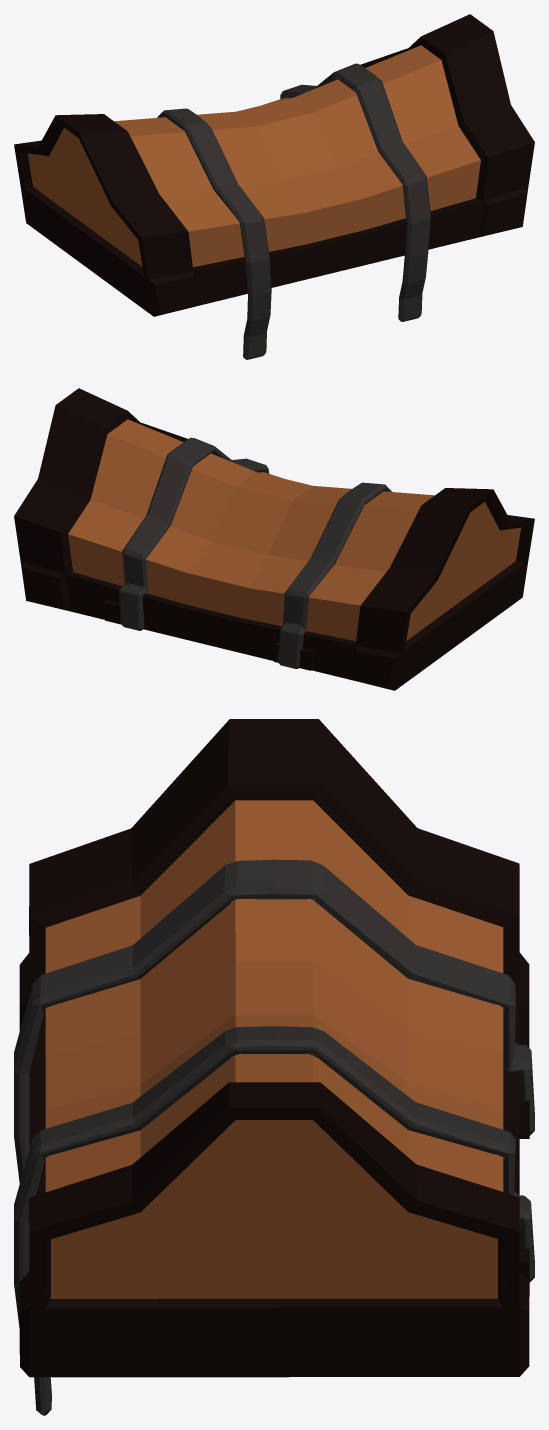
Rendered from chest_lid.obj.
The picture shows the model from 3 angles, top to bottom: view 1: azimuth 30°, elevation 25°; view 2: azimuth 150°, elevation 25°; view 3: azimuth 270°, elevation 25°; orthographic projection. The views are drawn at different scales.
Visible parts, largest first — view 1: chest.001; view 2: chest.001; view 3: chest.001.
Boxes of the visible parts, bbox=[...] form: chest.001: bbox=[14, 14, 534, 359]; chest.001: bbox=[14, 388, 534, 690]; chest.001: bbox=[14, 719, 534, 1415].
Size of the model in its own units: 0.544 by 0.2772 by 0.3086.
